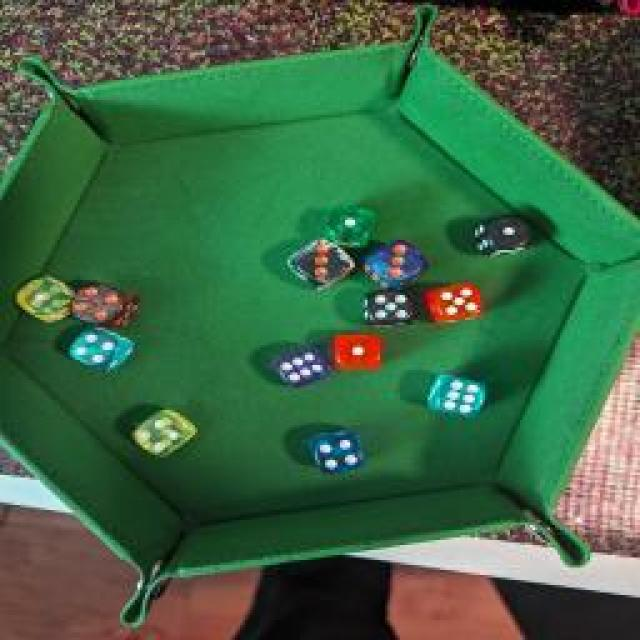dice_1: (14, 272, 74, 326), (328, 325, 388, 375), (473, 212, 535, 260), (318, 202, 384, 246)
dice_3: (355, 236, 435, 292), (278, 232, 358, 288)
dice_4: (69, 324, 139, 374), (131, 405, 199, 455), (72, 281, 138, 331), (308, 428, 370, 472)
dice_5: (422, 278, 490, 322), (362, 289, 418, 326)
dice_6: (426, 374, 486, 416), (269, 349, 329, 389)
